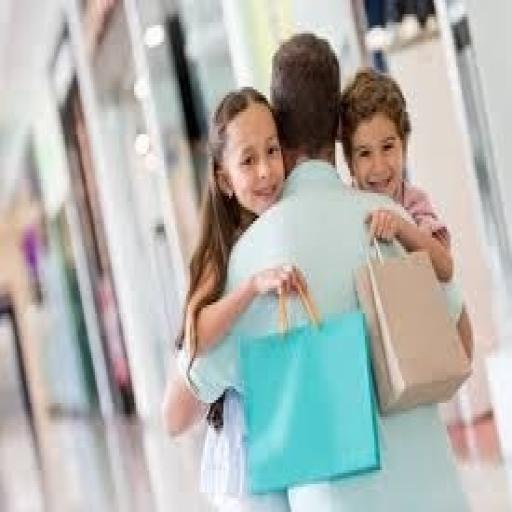hugging: (160, 31, 475, 509)
